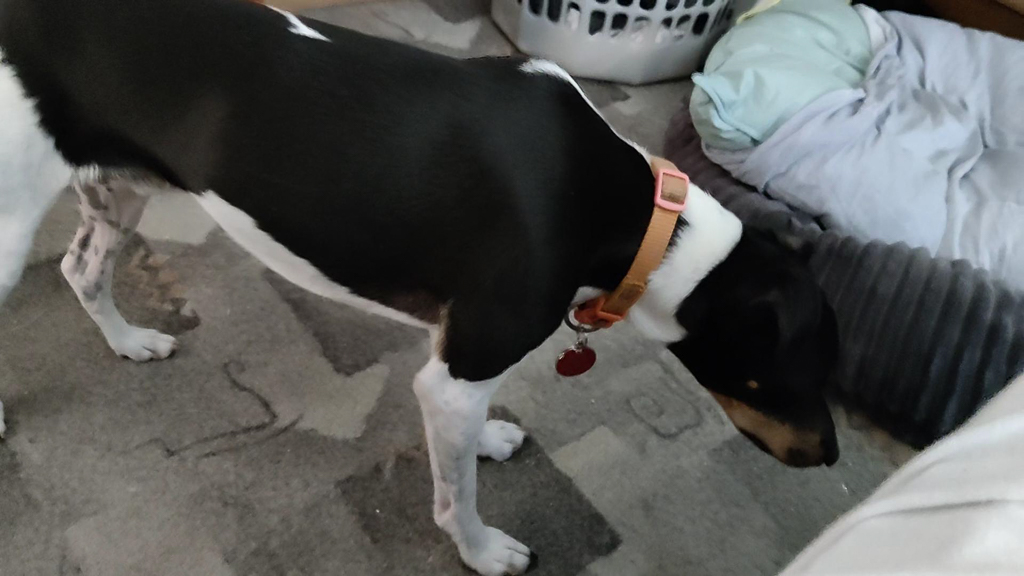Dog: (0, 0, 861, 576)
